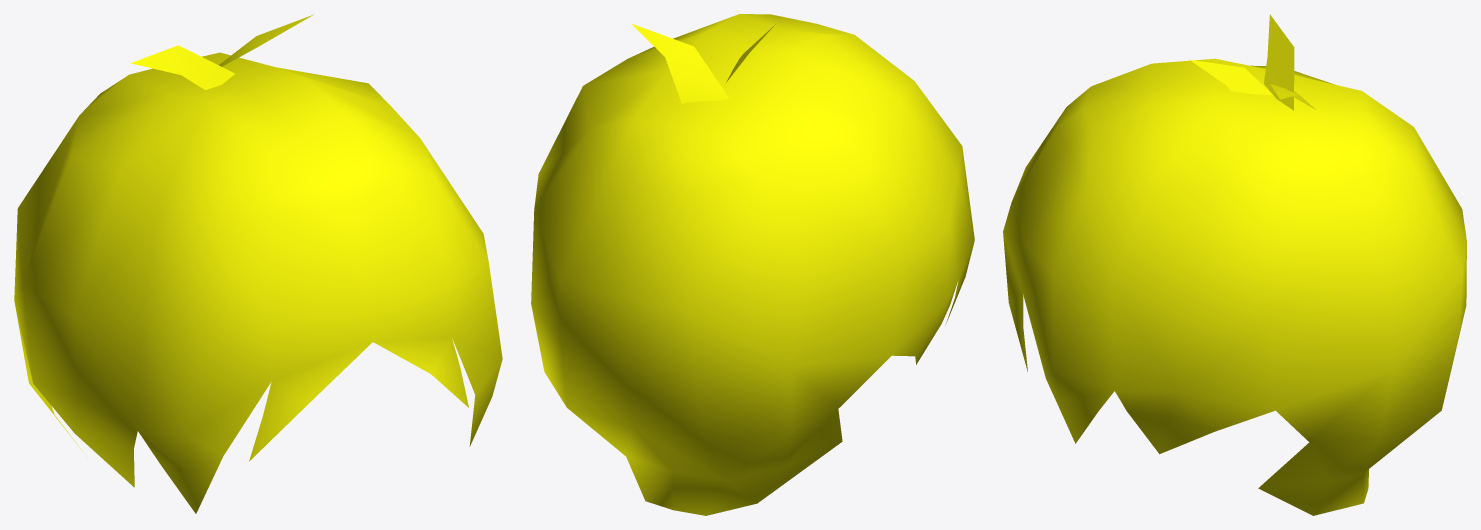
File: hair_neweren.glb
3 views of the same model, side by side, from view 1: azimuth 30°, elevation 25°; view 2: azimuth 150°, elevation 25°; view 3: azimuth 270°, elevation 25° (orthographic). The views are drawn at different scales.
Visible parts, largest first — view 1: NewErenModel; view 2: NewErenModel; view 3: NewErenModel.
Boxes of the visible parts, x1,y1,x2,y2 form: NewErenModel: [14, 14, 502, 513]; NewErenModel: [531, 14, 974, 515]; NewErenModel: [1003, 14, 1466, 515].
Bounding box in the file's own units: 0.5869 × 0.6673 × 0.6484.
Materials: 1 (1 with a texture image).
